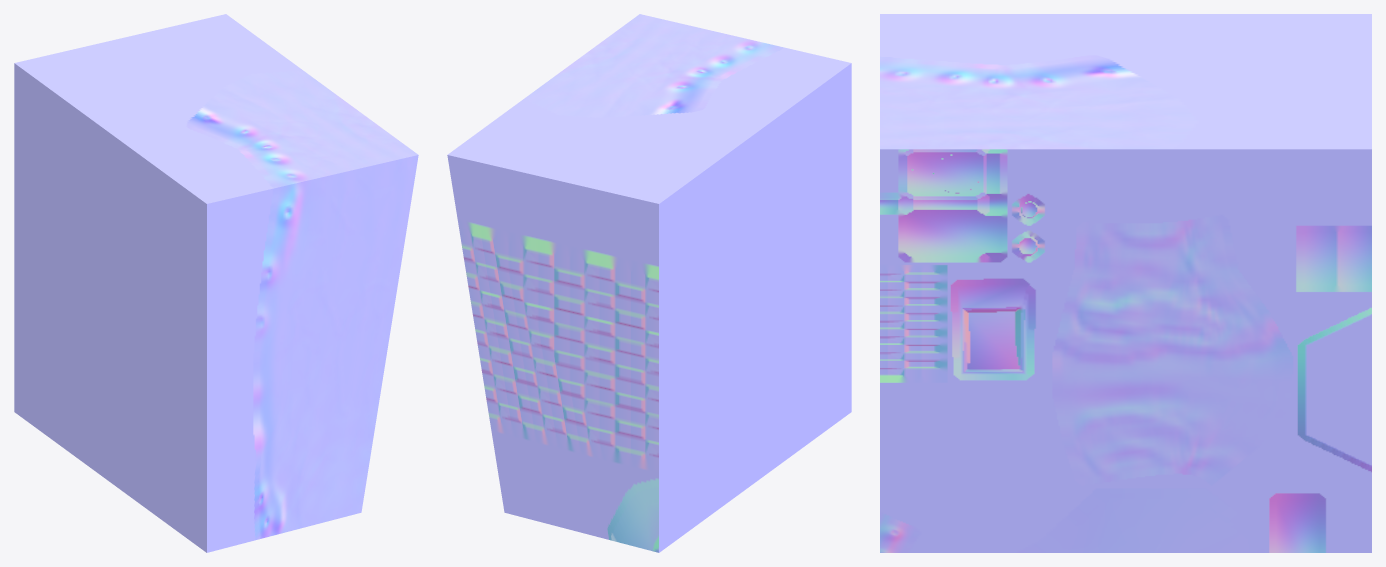
The model's file is adobe1.718110bd.gltf.
3 views of the same model, side by side, from view 1: azimuth 30°, elevation 25°; view 2: azimuth 150°, elevation 25°; view 3: azimuth 270°, elevation 25° (orthographic). The views are drawn at different scales.
Parts seen in each view (by area): view 1: pCube84; view 2: pCube84; view 3: pCube84.
Boxes of the visible parts, <box> form: pCube84: <box>14,14,418,552</box>; pCube84: <box>447,14,851,552</box>; pCube84: <box>880,14,1371,552</box>.
Size of the model in its own units: 0.00796 by 0.0125 by 0.0125.
1 material, 1 textured.
